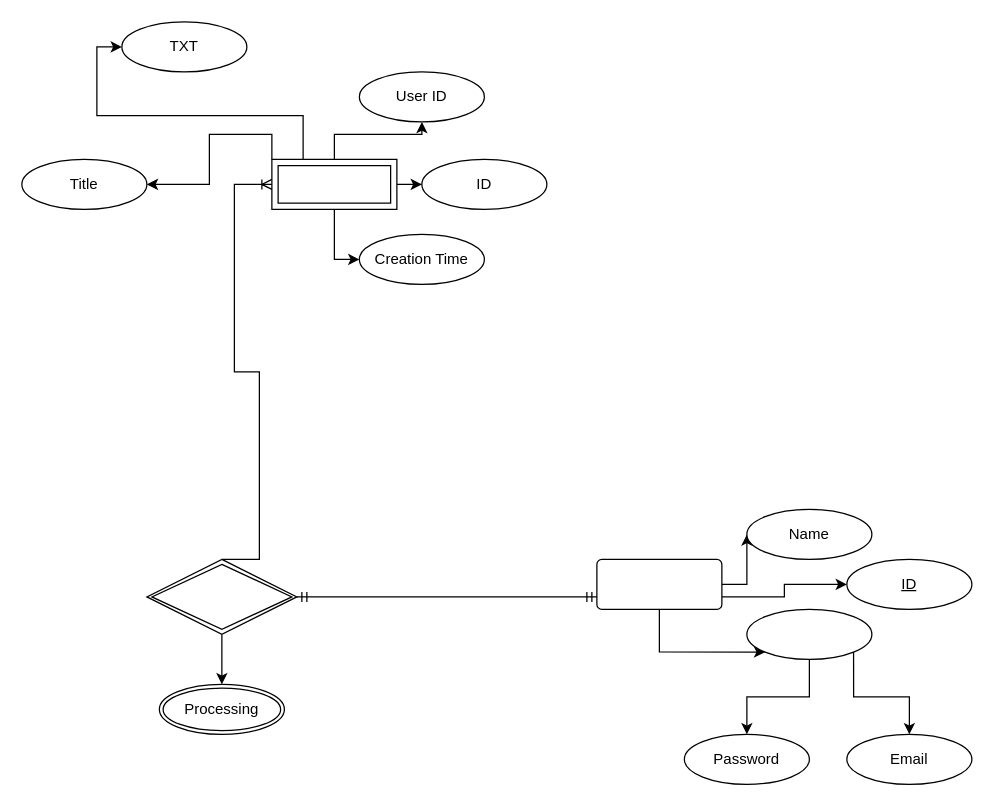
The diagram is 994 pixels wide and 806 high, and some of its shapes have lost their labels. Here are the shapes that lost their labels. From the top down, the box of each, then its label:
(271, 158, 397, 209): Task
(146, 558, 297, 634): Make
(596, 558, 722, 609): Person
(746, 608, 872, 659): Account
